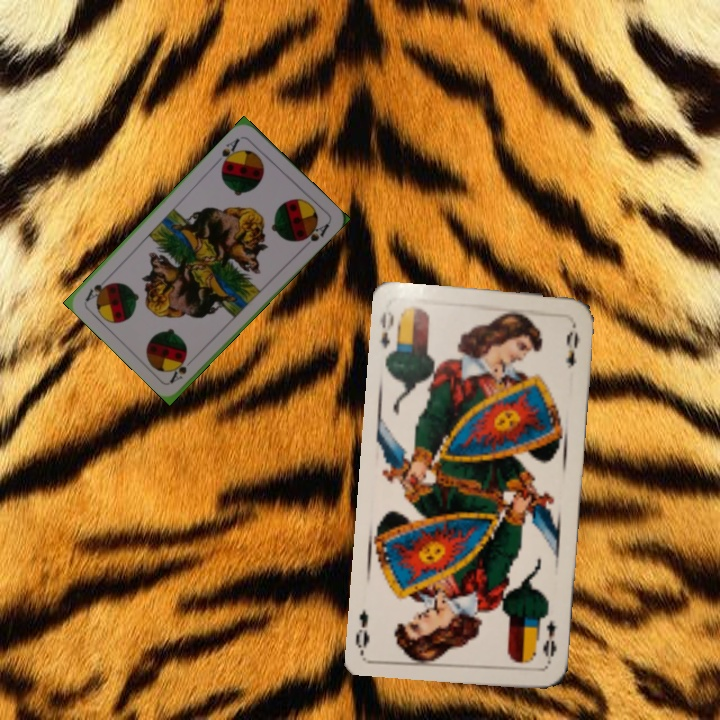EO: (376, 307, 397, 351), (538, 616, 559, 659)
SA: (212, 134, 242, 170), (166, 355, 189, 385)
